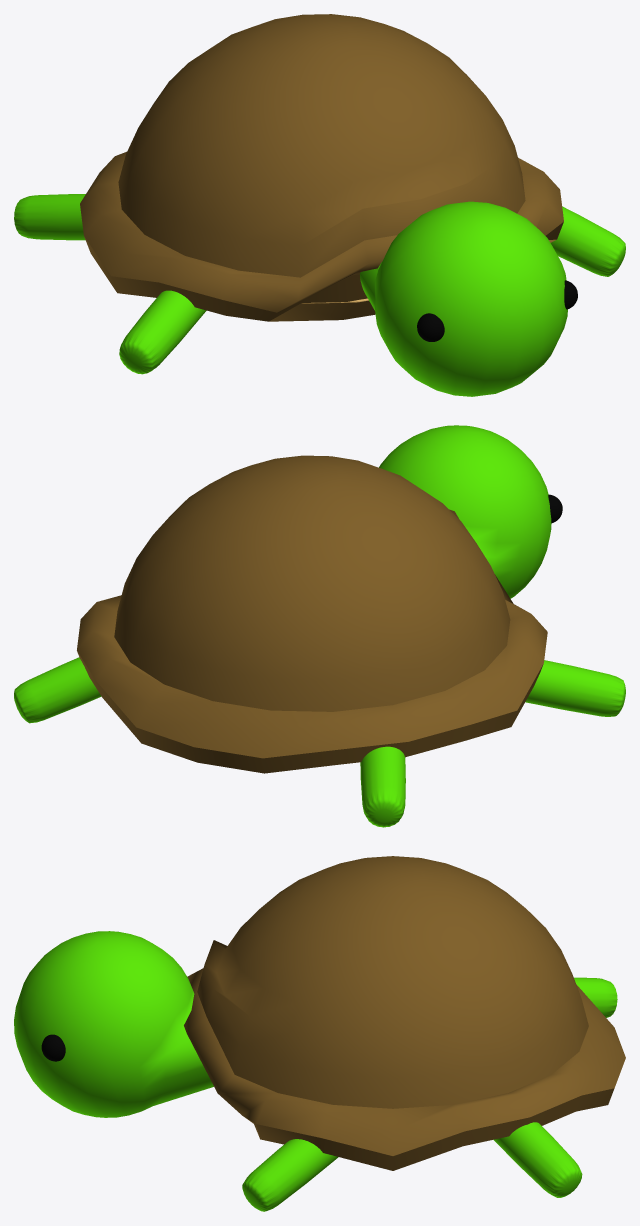
Rendered from turtle_toy.fbx.
The picture shows the model from 3 angles, top to bottom: view 1: azimuth 30°, elevation 25°; view 2: azimuth 150°, elevation 25°; view 3: azimuth 270°, elevation 25°; orthographic projection. The views are drawn at different scales.
Visible parts, largest first — view 1: pSphere6; view 2: pSphere6; view 3: pSphere6.
Boxes of the visible parts, x1=… form: pSphere6: x1=14, y1=14, x2=625, y2=396; pSphere6: x1=14, y1=425, x2=625, y2=827; pSphere6: x1=14, y1=856, x2=625, y2=1211.
Size of the model in its own units: 2.76 by 1.3 by 3.09.
